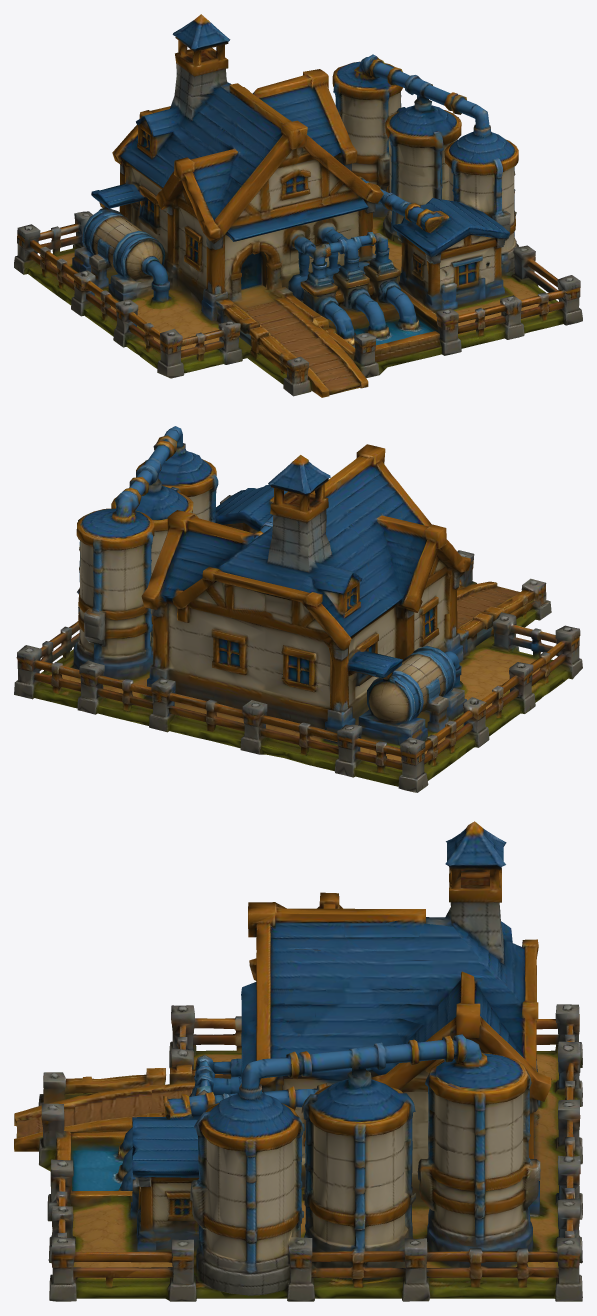
Rendered from water_pump_stage2.glb.
The picture shows the model from 3 angles, top to bottom: view 1: azimuth 30°, elevation 25°; view 2: azimuth 150°, elevation 25°; view 3: azimuth 270°, elevation 25°; orthographic projection. The views are drawn at different scales.
Visible parts, largest first — view 1: tripo_node_1beda13d-a938-441b-b7b4-ddcff6e865e1; view 2: tripo_node_1beda13d-a938-441b-b7b4-ddcff6e865e1; view 3: tripo_node_1beda13d-a938-441b-b7b4-ddcff6e865e1.
Boxes of the visible parts, x1,y1,x2,y2 form: tripo_node_1beda13d-a938-441b-b7b4-ddcff6e865e1: (14, 14, 582, 397); tripo_node_1beda13d-a938-441b-b7b4-ddcff6e865e1: (14, 426, 582, 792); tripo_node_1beda13d-a938-441b-b7b4-ddcff6e865e1: (14, 821, 582, 1301).
Bounding box in the file's own units: 1 × 0.6216 × 0.9621.
1 material, 1 textured.
